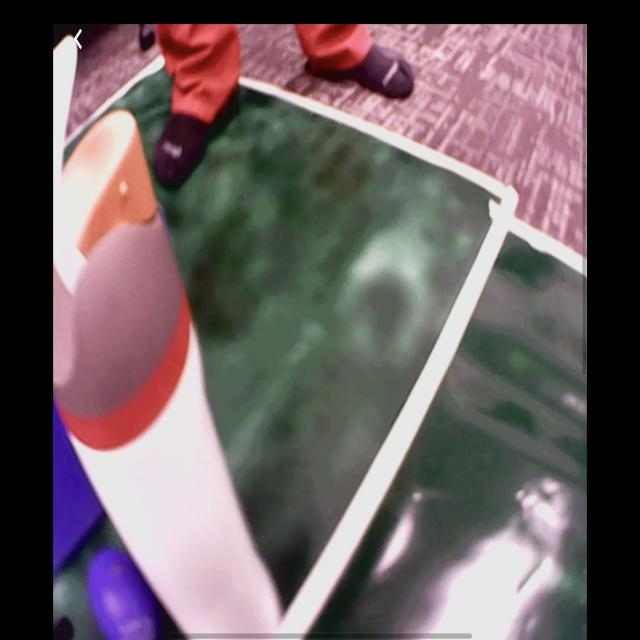ball: (89, 545, 164, 640)
